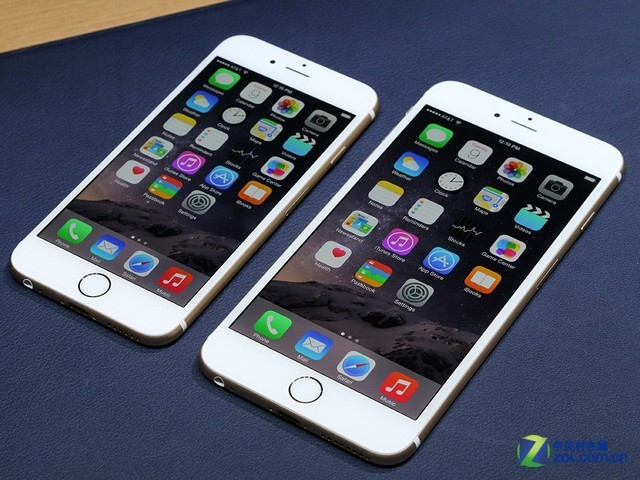phone: (230, 142, 611, 380), (8, 58, 364, 275)
